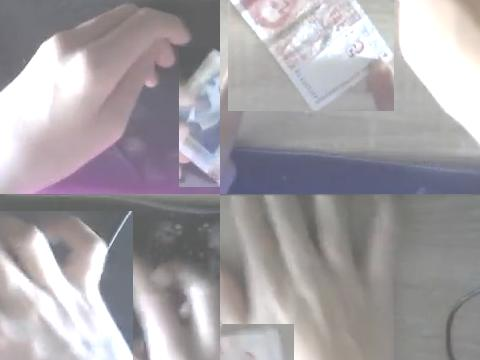20leva: (0, 212, 129, 360), (179, 47, 220, 186)
5leva: (228, 0, 394, 111)
